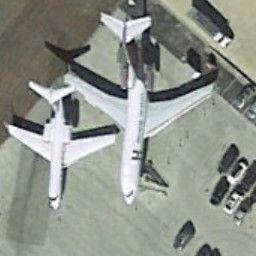Airplane: (63, 10, 219, 208), (1, 76, 117, 215)
